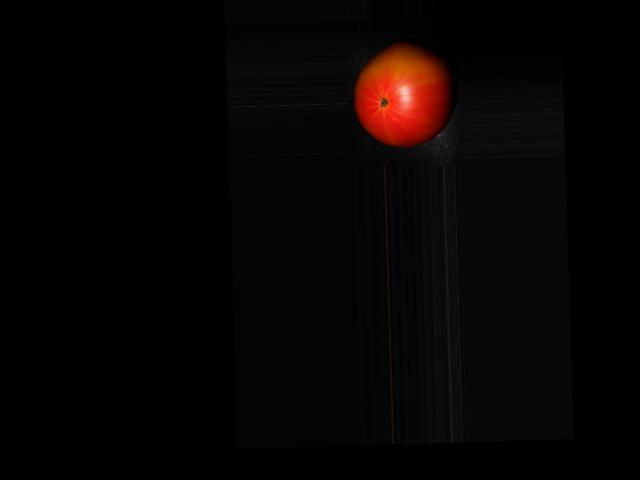tomato: (352, 41, 456, 148)
